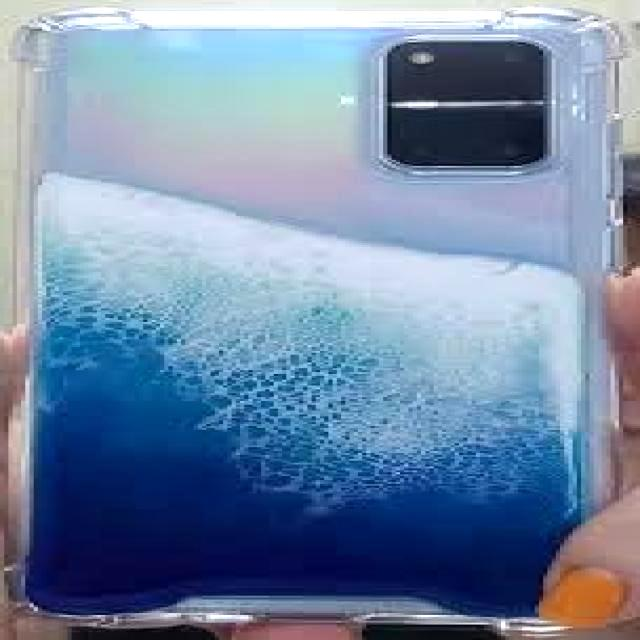phone: (13, 8, 624, 619)
